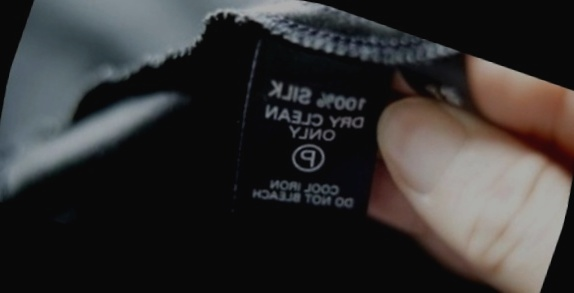dry_clean_any_solvent_except_trichloroethylene: (282, 133, 333, 181)
